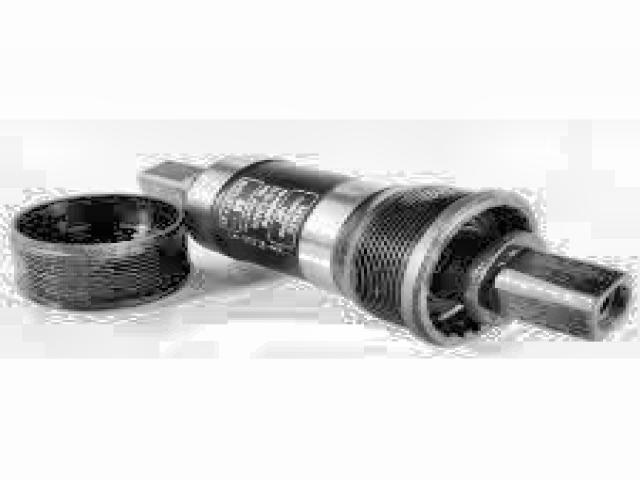bottom_bracket: (136, 148, 634, 354)
